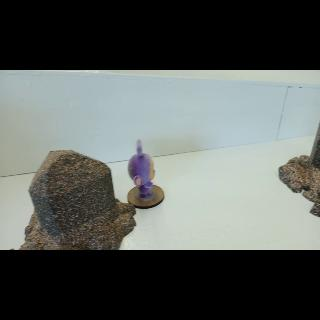teletubby: (128, 140, 155, 198)
